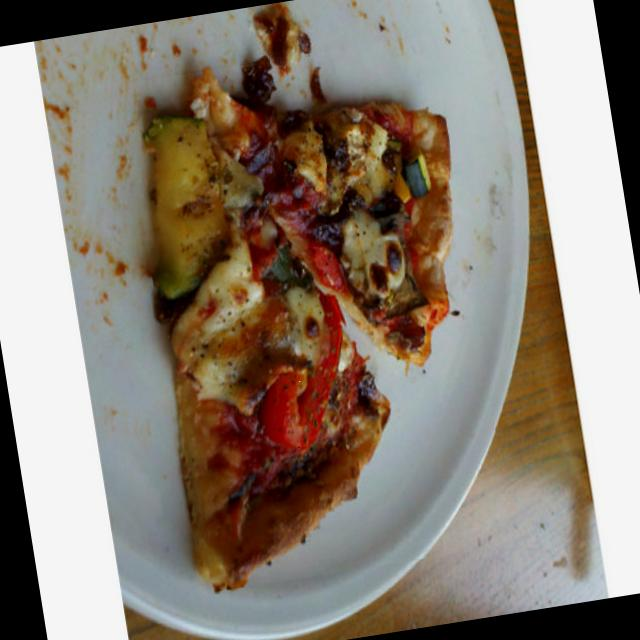Bell Pepper: (241, 295, 364, 453)
pizza: (144, 71, 452, 591)
